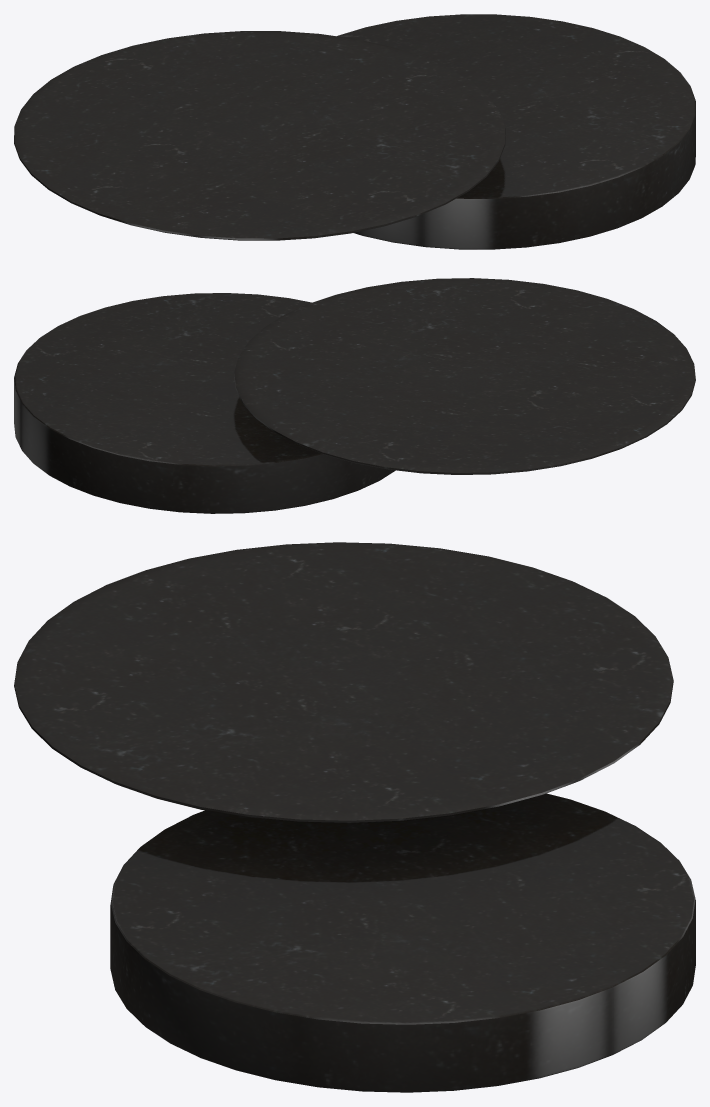
The model's file is raw_model.obj.
3 renders of one model, top to bottom at view 1: azimuth 30°, elevation 25°; view 2: azimuth 150°, elevation 25°; view 3: azimuth 270°, elevation 25°, orthographic. The views are drawn at different scales.
Visible parts, largest first — view 1: solid; view 2: solid; view 3: solid.
Boxes of the visible parts, box(x1,y1,x2,y2) form: solid: box(14, 14, 695, 249); solid: box(14, 278, 695, 513); solid: box(14, 542, 695, 1092).
Bounding box in the file's own units: 1.54 × 0.2275 × 1.06.
Materials: 1 (1 with a texture image).
